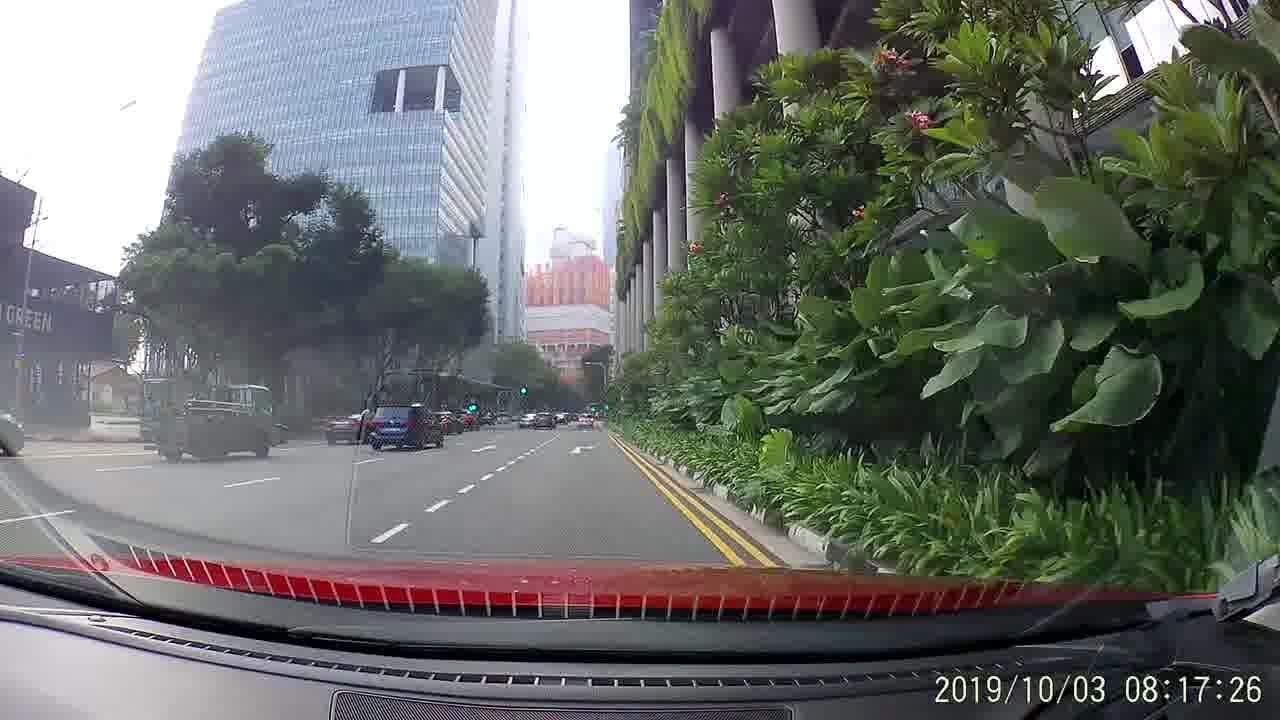car: (370, 401, 447, 456), (324, 408, 377, 446), (530, 409, 559, 433), (576, 410, 599, 435)
